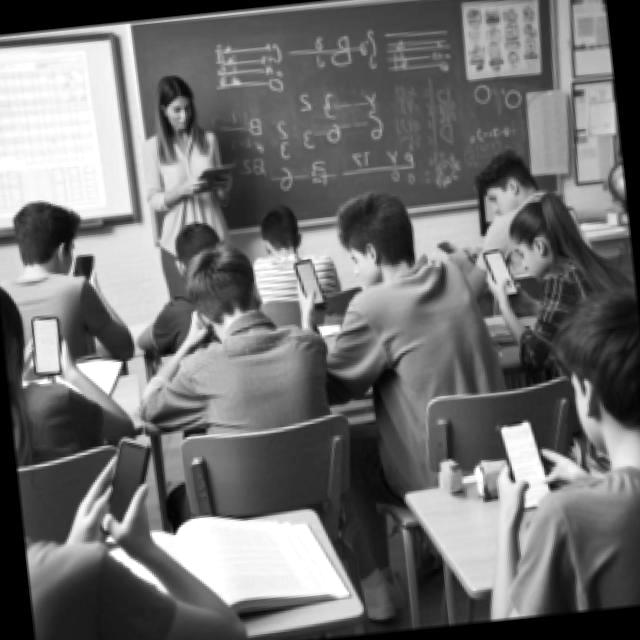phone: (92, 434, 160, 534), (496, 416, 554, 512), (30, 310, 66, 374), (484, 246, 519, 296), (294, 255, 326, 307), (438, 236, 477, 266), (70, 250, 97, 284), (438, 239, 456, 252)
